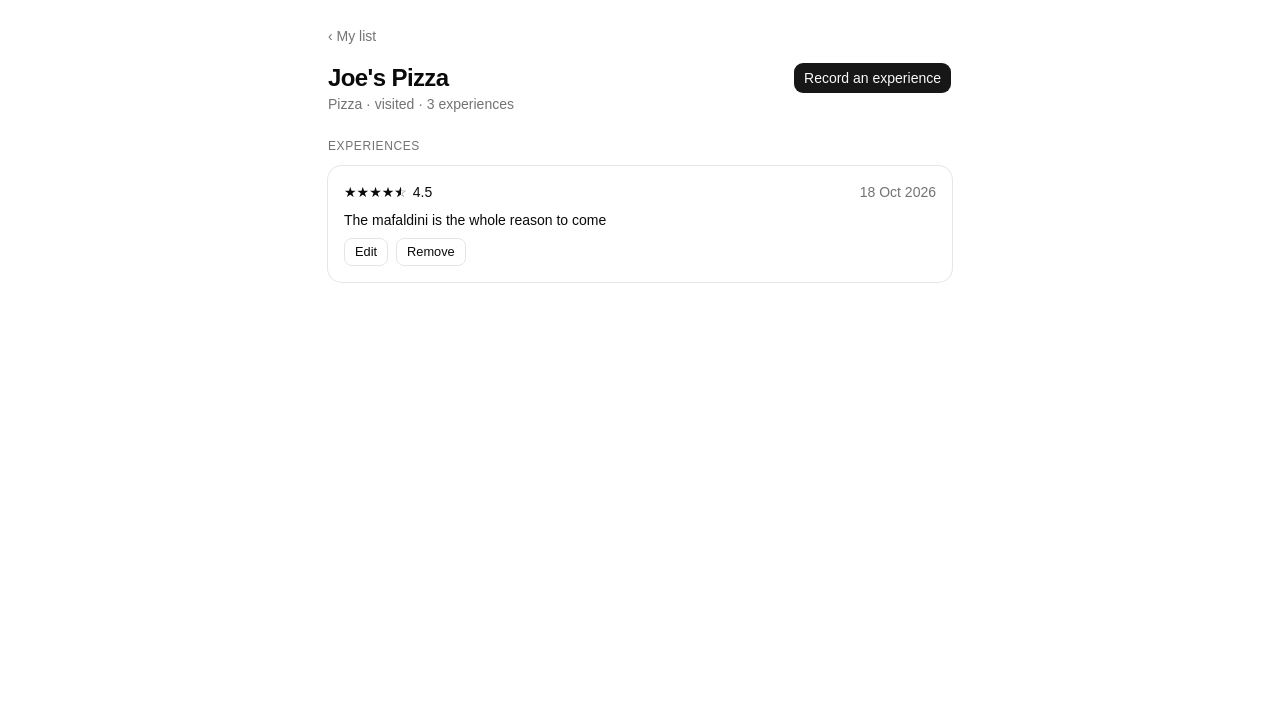
Test: changing an experience › clearing the last thing it says › shows the API's refusal when it gets there anyway
Click the button "Edit": (366, 252) [344,238,388,266]
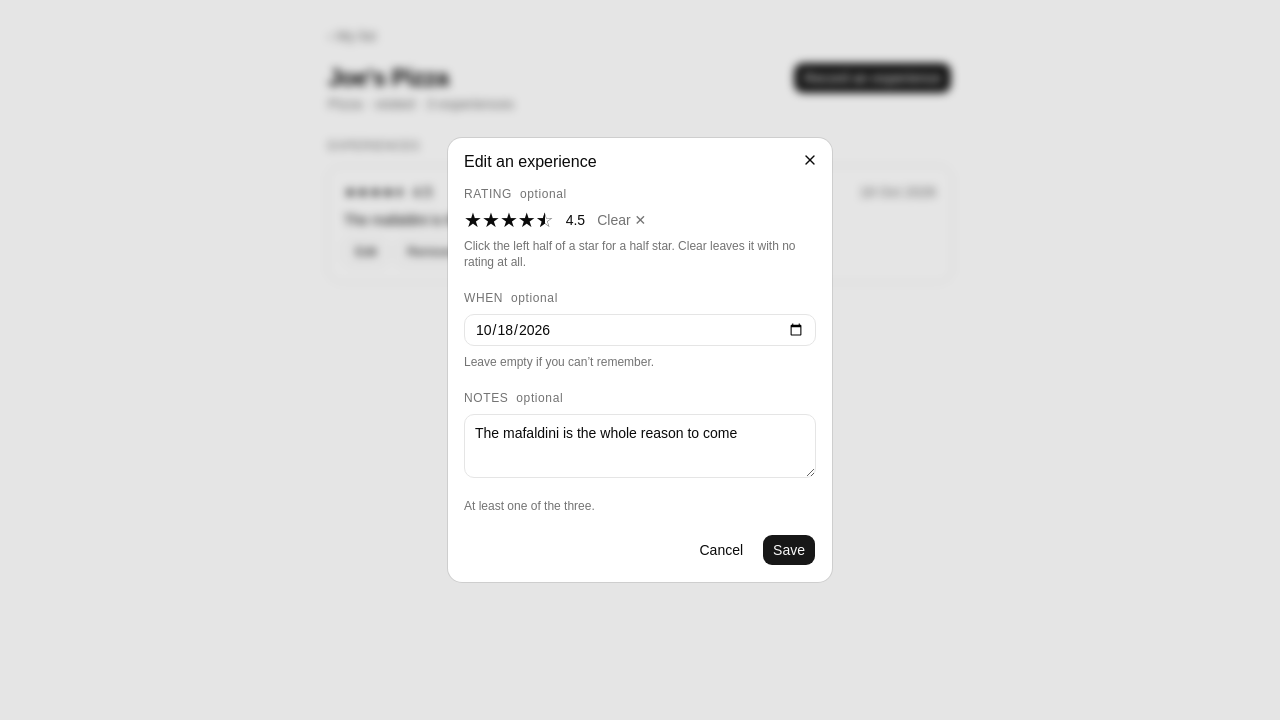
Expected: the heading "Edit an experience" is shown, [464,153,596,170]
Click the radio button named "5 stars": (549, 220) [545,210,554,230]
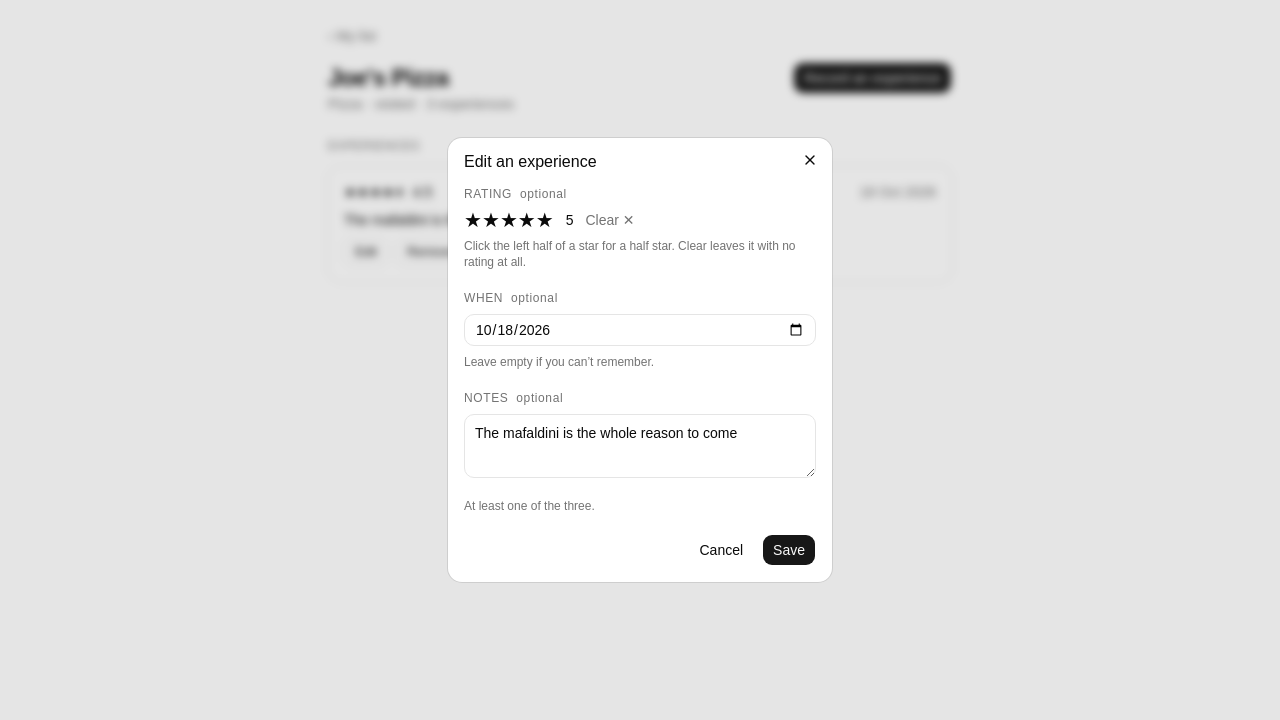
Click the button "Save": (789, 550) [762,534,816,566]
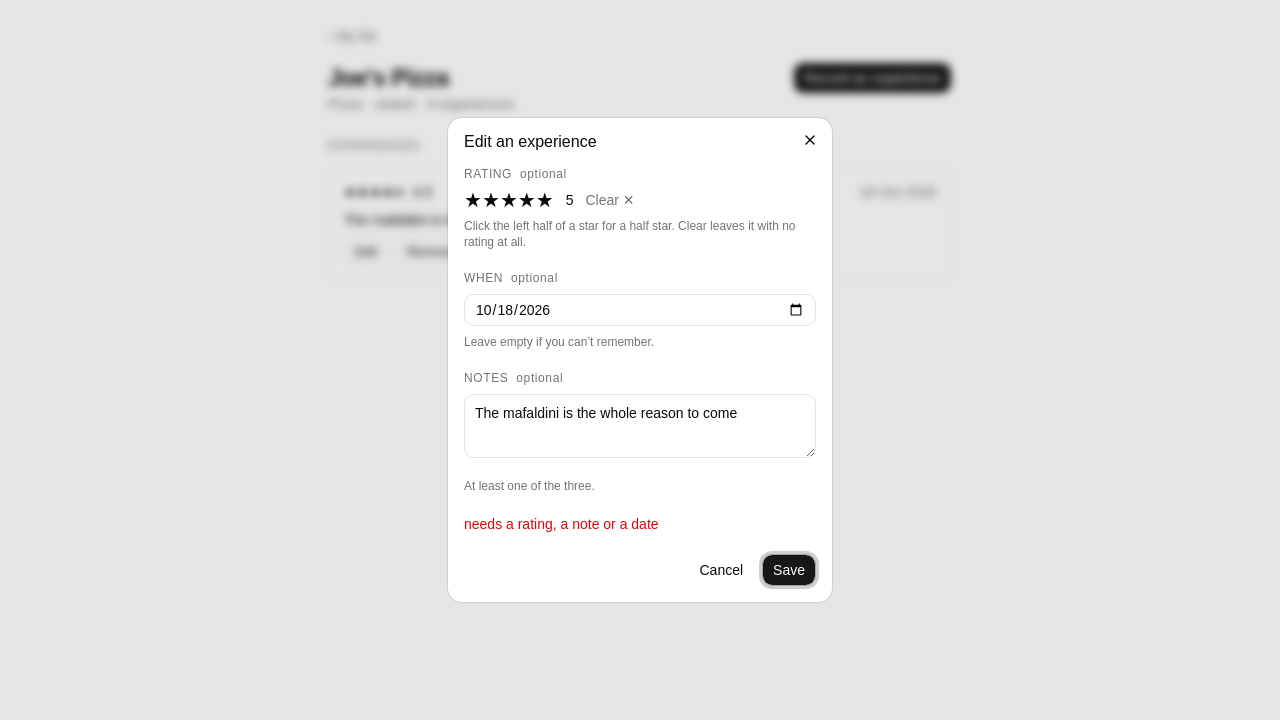
Expected: the dialog is shown, [448,118,832,602]
Expected: the text "needs a rating, a note or a date" is shown, [464,516,659,532]
